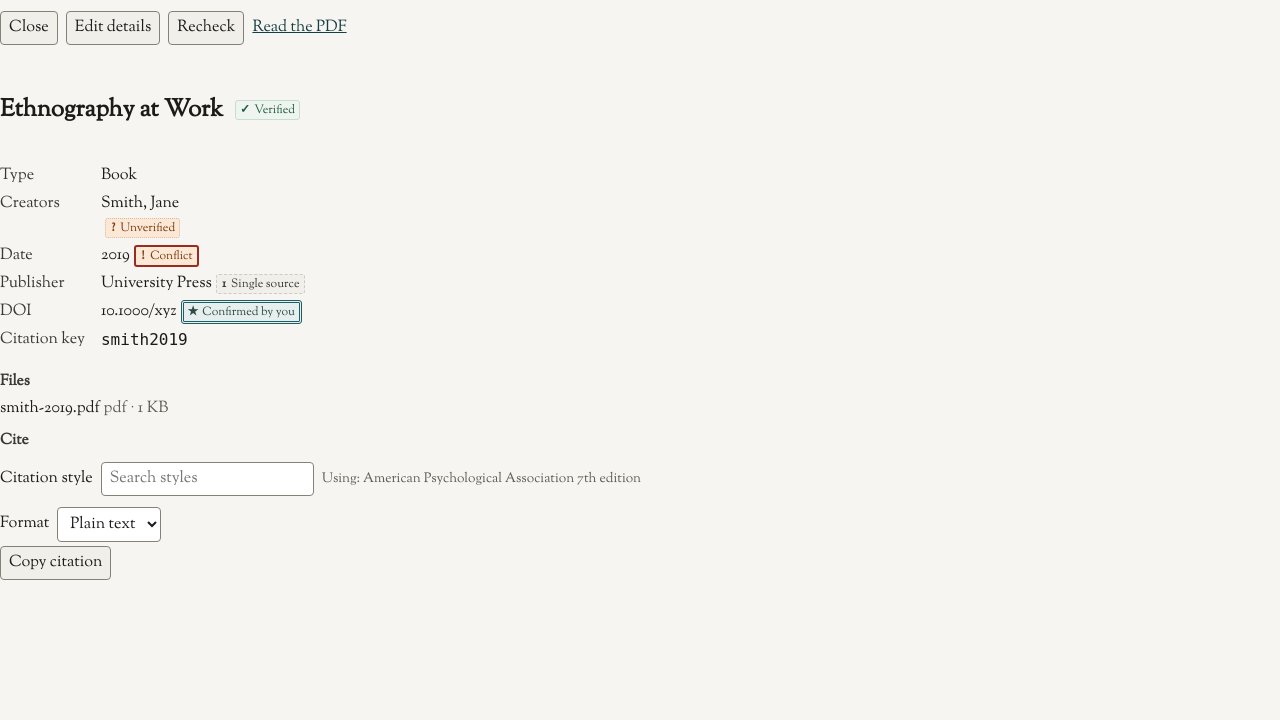
Test: SourceDetail: verification (Task 34d) › choosing a conflicting value posts the researcher's confirmation and the badge then says Confirmed by you
What coordinates should you click on to do the following:
click the button with aria-label "Publication date: Conflict"
I would click on:
 (166, 256)
Its box is [134,245,198,267].
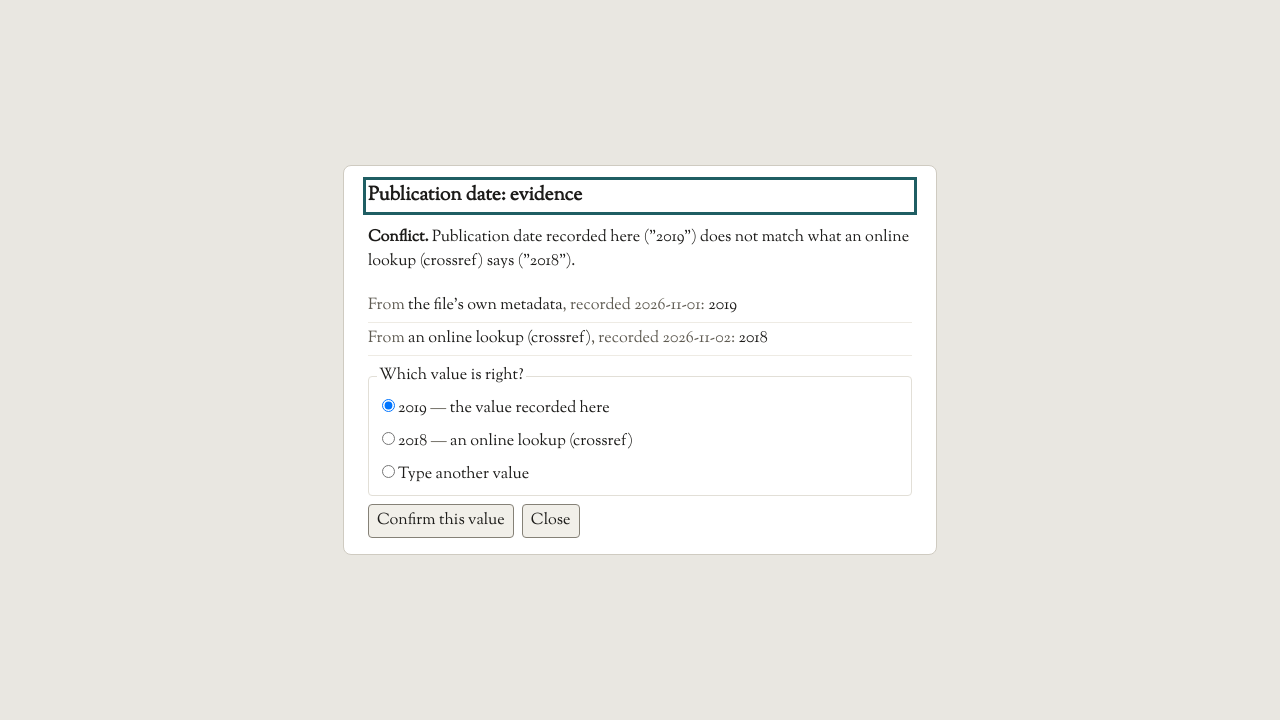
What coordinates should you click on to do the following:
click the radio button labelled "2018 — an online lookup (crossref)"
I would click on:
 (388, 439)
Its box is [382,432,395,445].
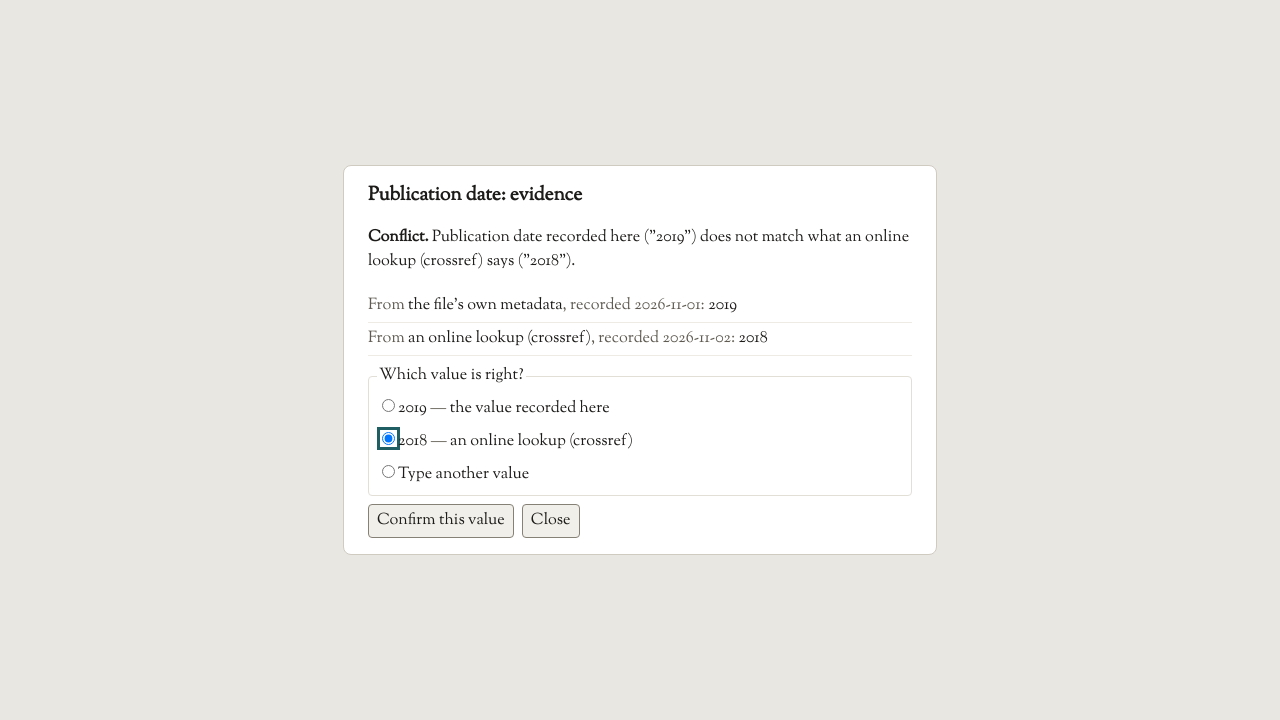
What coordinates should you click on to do the following:
click the button "Confirm this value"
I would click on:
 (441, 521)
Its box is [368,504,514,538].
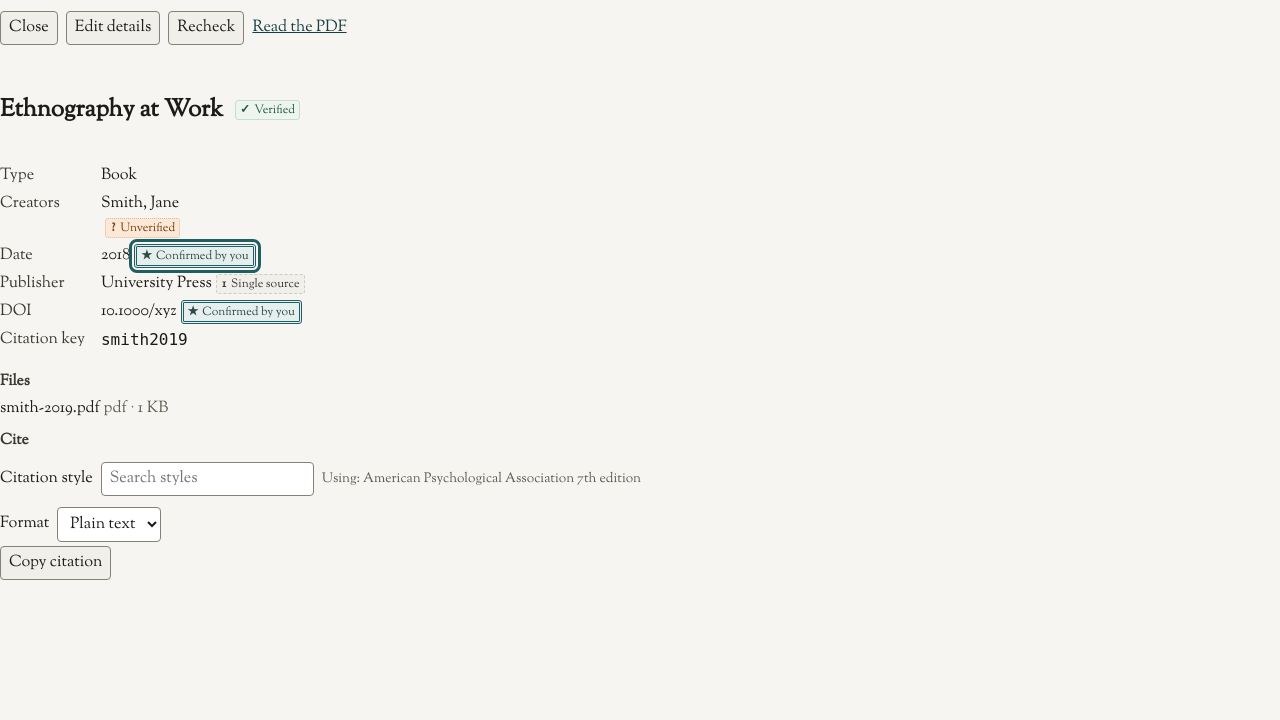
Expected: the dialog is gone
